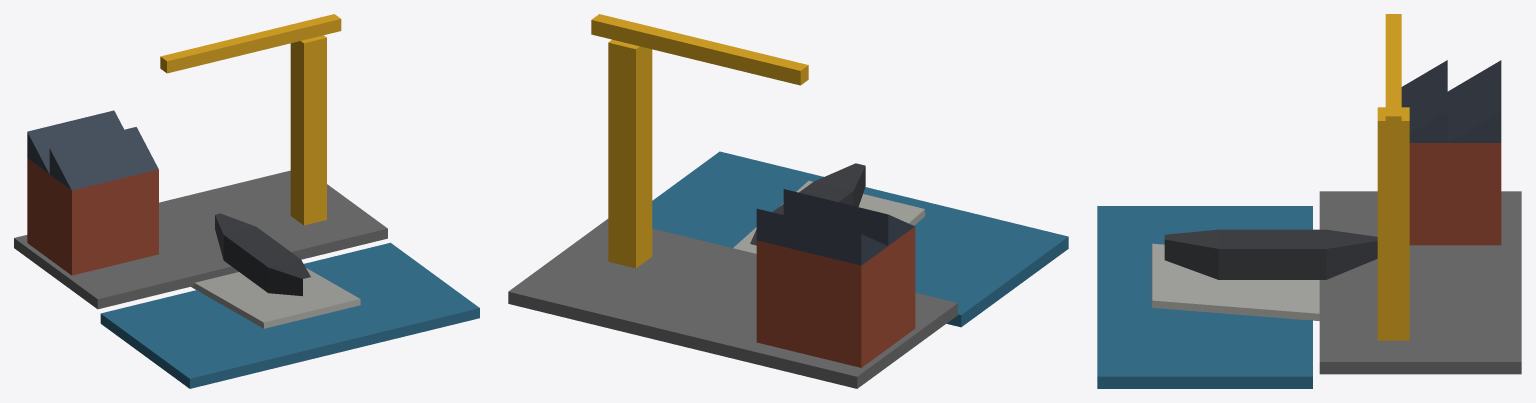
Rendered from bld_special_shipyard_a05_lod2.glb.
The picture shows the model from 3 angles, left to right: view 1: azimuth 30°, elevation 25°; view 2: azimuth 150°, elevation 25°; view 3: azimuth 270°, elevation 25°; orthographic projection. The views are drawn at different scales.
Visible parts, largest first — view 1: body, crane; view 2: body, crane; view 3: body, crane.
Boxes of the visible parts, bbox=[...] form: body: bbox=[14, 110, 479, 388]; crane: bbox=[160, 14, 341, 225]; body: bbox=[508, 151, 1068, 388]; crane: bbox=[591, 14, 808, 268]; body: bbox=[1097, 60, 1521, 388]; crane: bbox=[1377, 14, 1409, 340].
Bounding box in the file's own units: 15 × 10.7 × 15.75.
